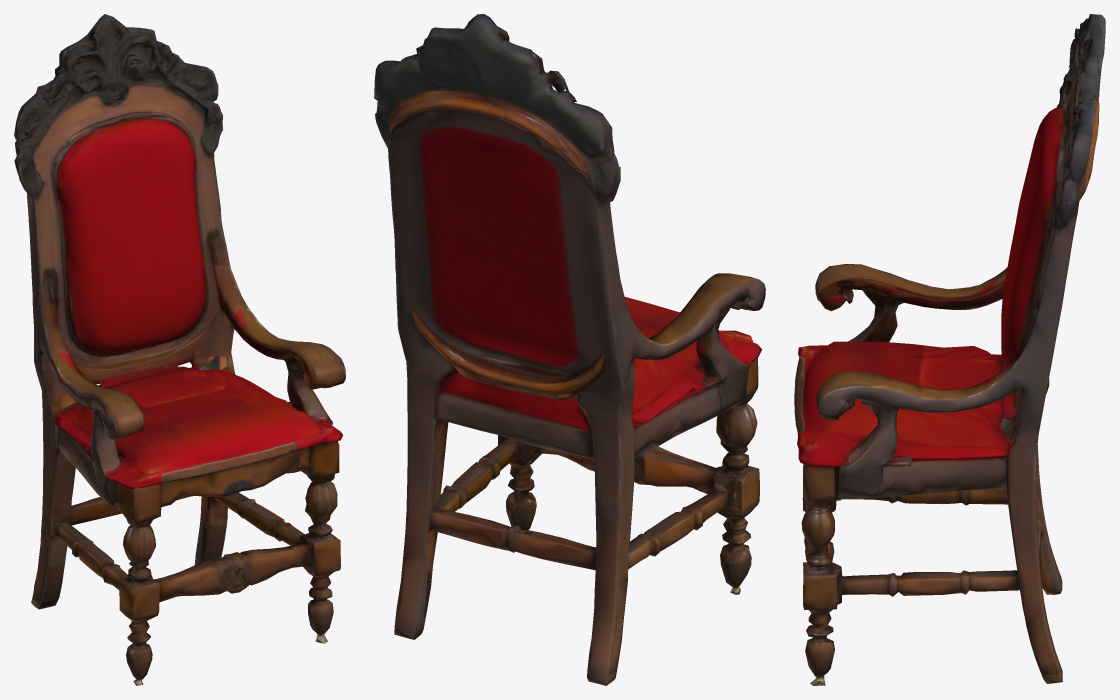
File: chair-rodiondbulatoff.normalized.glb
The picture shows the model from 3 angles, left to right: view 1: azimuth 30°, elevation 25°; view 2: azimuth 150°, elevation 25°; view 3: azimuth 270°, elevation 25°; orthographic projection. The views are drawn at different scales.
Visible parts, largest first — view 1: meshy_cc0_chair_rodiondbulatoff_mesh_00; view 2: meshy_cc0_chair_rodiondbulatoff_mesh_00; view 3: meshy_cc0_chair_rodiondbulatoff_mesh_00.
Part boxes in pixels (x1,y1,x2,y2): meshy_cc0_chair_rodiondbulatoff_mesh_00: (14, 14, 345, 685); meshy_cc0_chair_rodiondbulatoff_mesh_00: (374, 14, 765, 685); meshy_cc0_chair_rodiondbulatoff_mesh_00: (794, 14, 1105, 685).
Bounding box in the file's own units: 0.8676 × 1.99 × 0.9055.
Materials: 1 (1 with a texture image).
